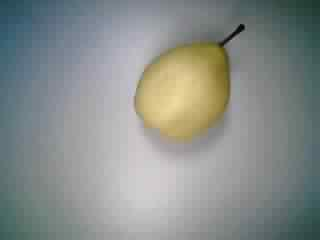pear: (124, 20, 247, 149)
